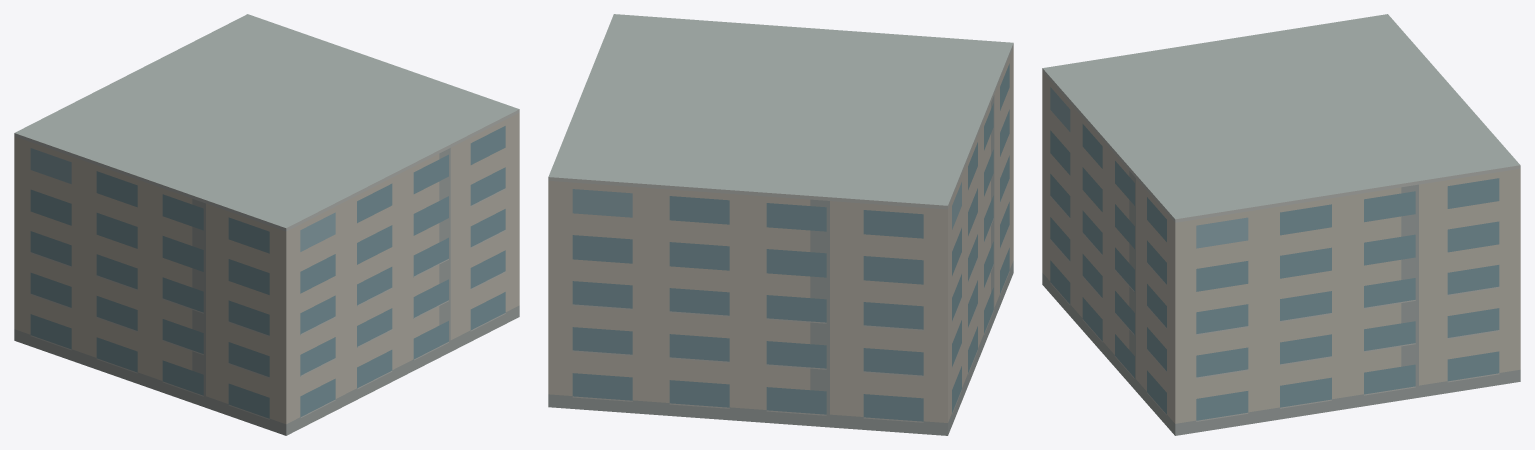
Rendered from residential-64fae094-e8e9-4e27-a538-0527e0b846b3.glb.
3 renders of one model, left to right at view 1: azimuth 30°, elevation 25°; view 2: azimuth 150°, elevation 25°; view 3: azimuth 270°, elevation 25°, orthographic. The views are drawn at different scales.
Visible parts, largest first — view 1: residential-64fae094-e8e9-4e27-a538-0527e0b846b3.tmp; view 2: residential-64fae094-e8e9-4e27-a538-0527e0b846b3.tmp; view 3: residential-64fae094-e8e9-4e27-a538-0527e0b846b3.tmp.
Part boxes in pixels (x1,y1,x2,y2): residential-64fae094-e8e9-4e27-a538-0527e0b846b3.tmp: [14, 14, 519, 435]; residential-64fae094-e8e9-4e27-a538-0527e0b846b3.tmp: [548, 14, 1013, 435]; residential-64fae094-e8e9-4e27-a538-0527e0b846b3.tmp: [1042, 14, 1520, 435].
Size of the model in its own units: 31.01 by 15.25 by 30.51.
